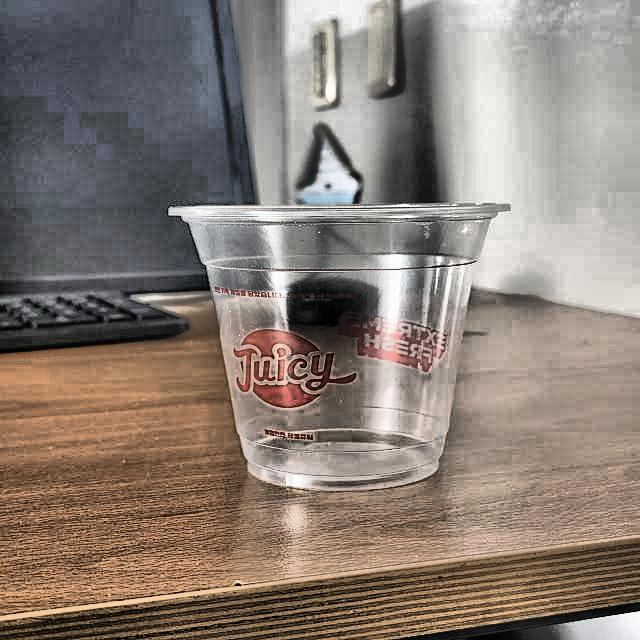plastic cup: (164, 202, 515, 490)
